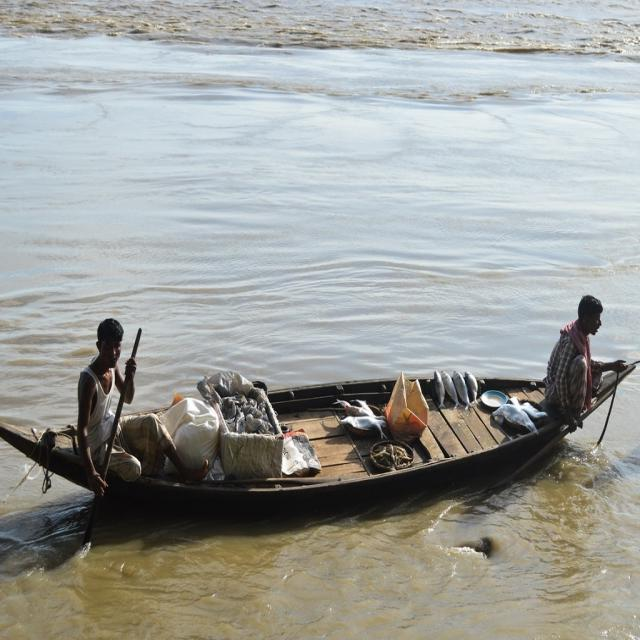boat: (0, 344, 639, 514)
